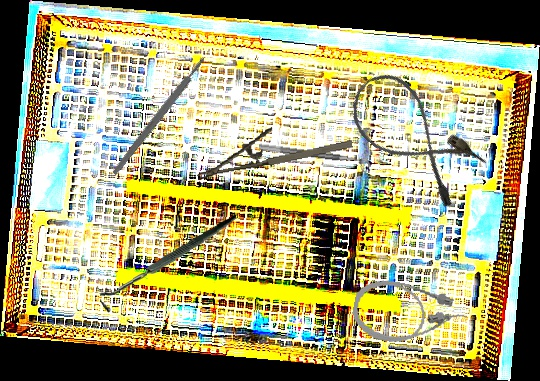Cannula: (336, 62, 491, 212), (348, 274, 471, 356)
Fixation Ring: (257, 143, 372, 175)
Hook Surgical: (95, 214, 242, 314)
Needle Holder: (191, 114, 354, 180)
Scalpel Handle: (110, 56, 208, 176)
